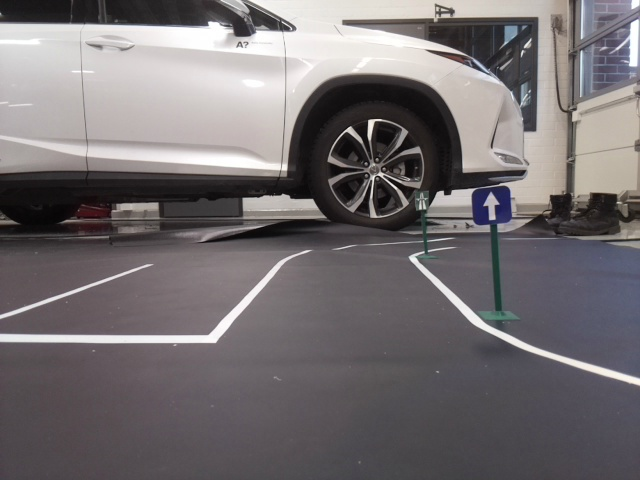HighwayEntrance: (414, 190, 428, 209)
OneWay: (471, 189, 512, 222)
